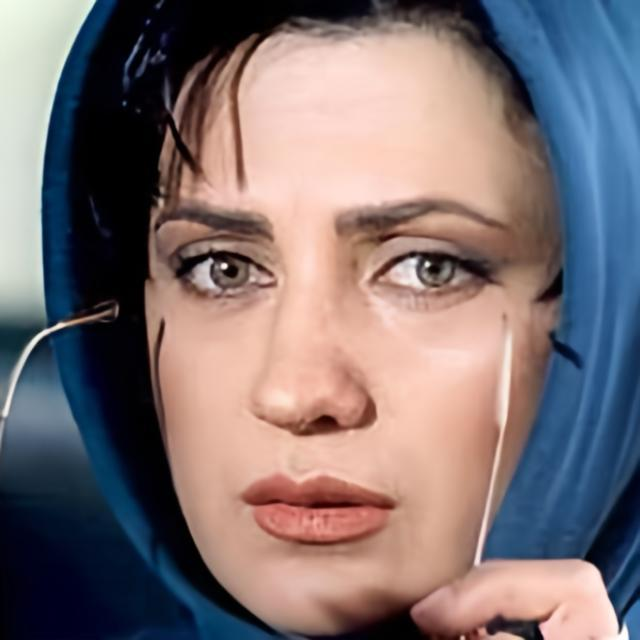sad: (152, 59, 536, 616)
